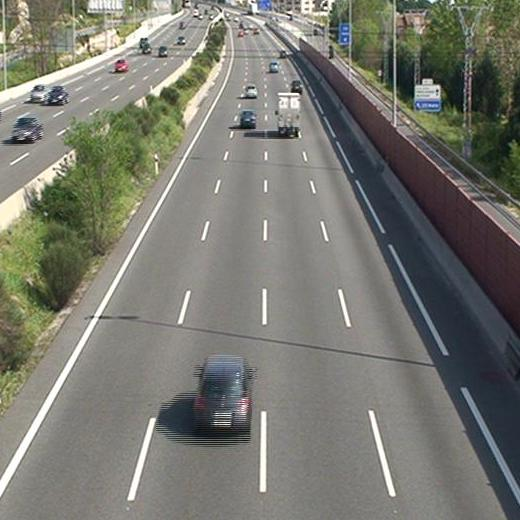car: (193, 357, 252, 431), (239, 109, 255, 126), (290, 79, 302, 92), (245, 85, 256, 98), (268, 61, 279, 71)
small-truck: (276, 91, 299, 136)
